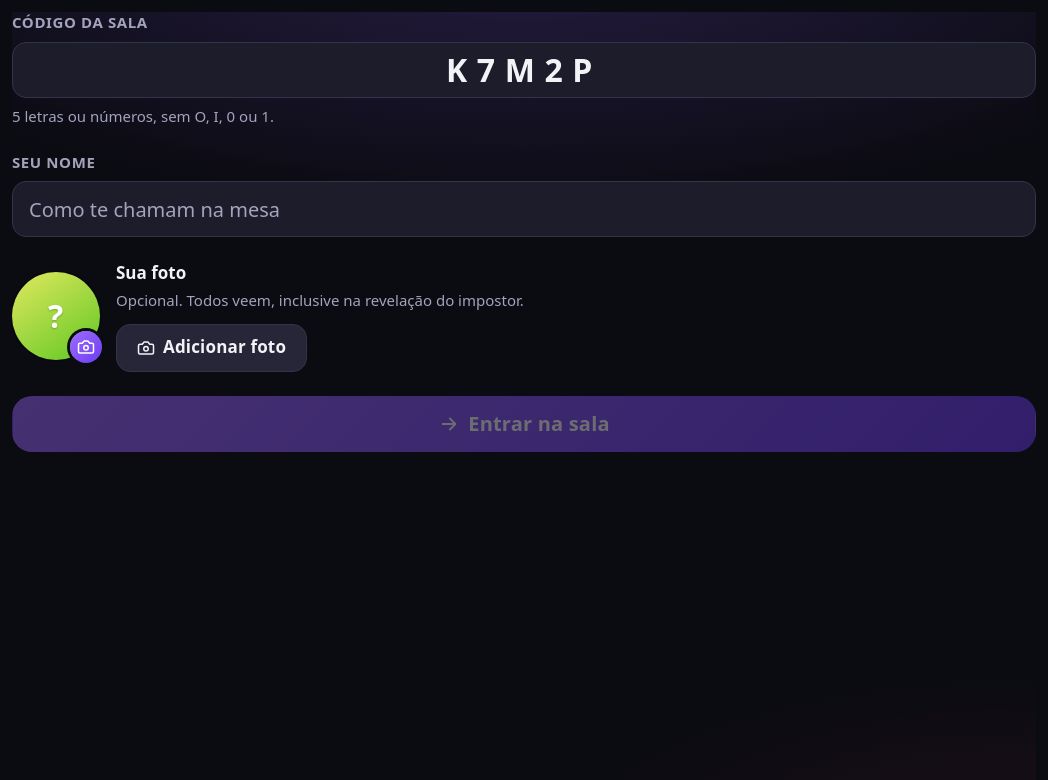
Scenario: JoinRoomForm › shows the message for room_not_found
The image size is (1048, 780).
In the field labelled "Seu nome": point(524, 209) [12, 181, 1036, 237], type "Bia"
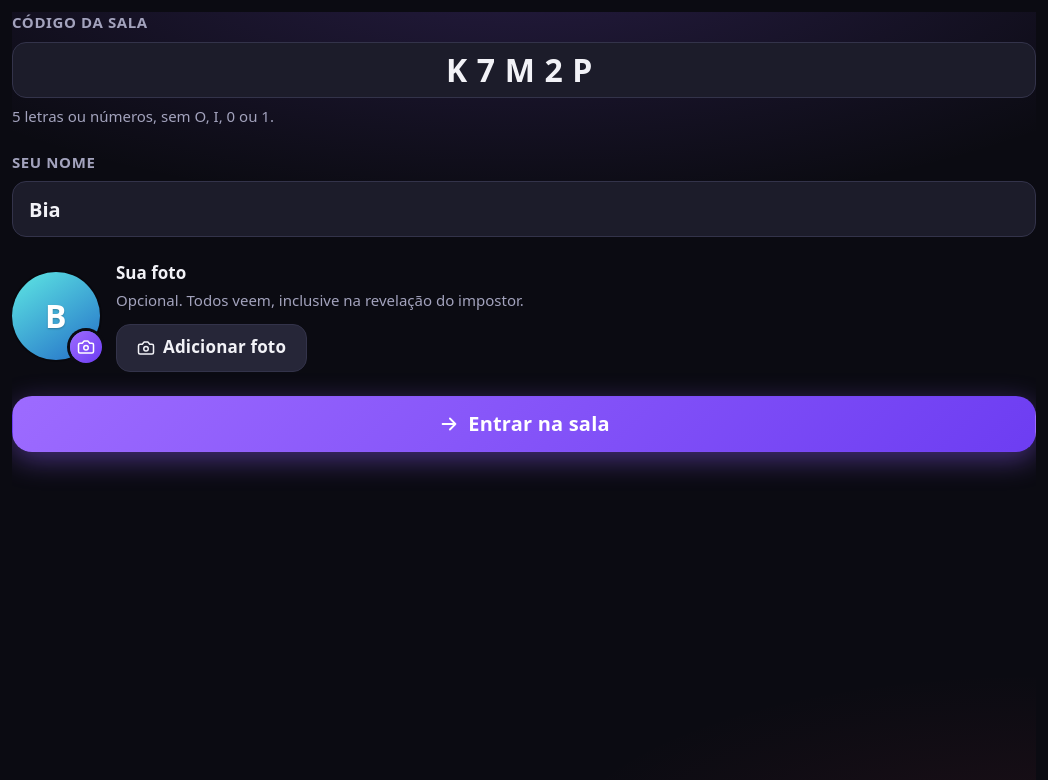
Click the button "Entrar na sala": point(524, 424) [12, 396, 1036, 452]
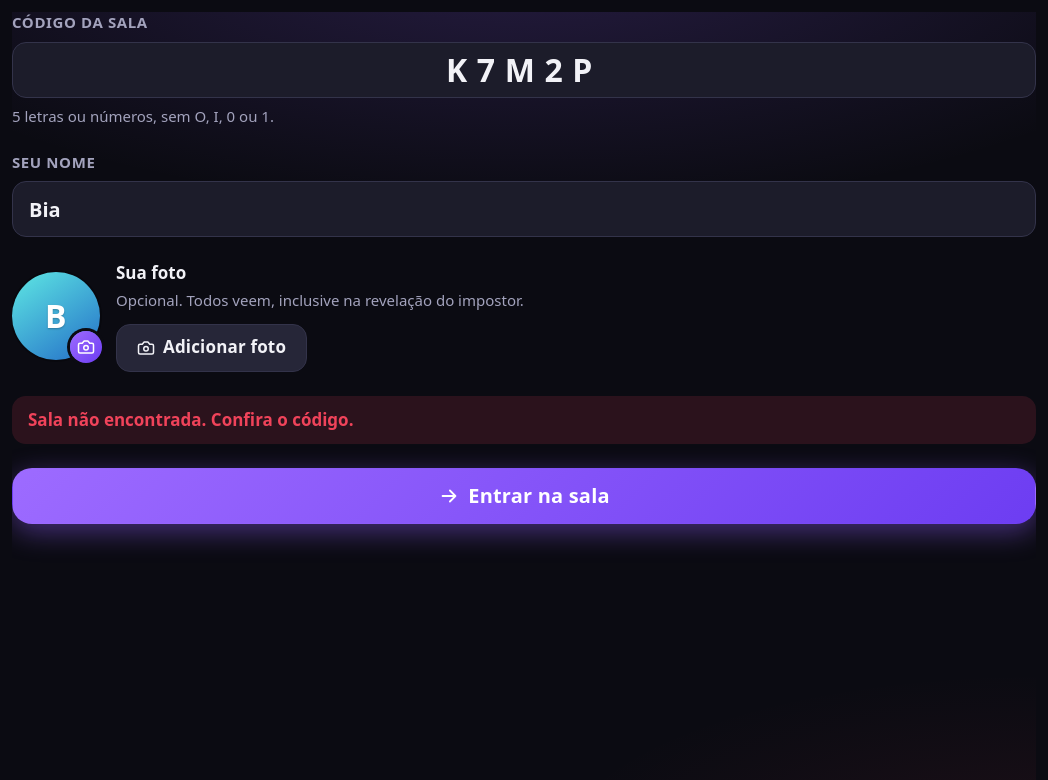
Check: the message shows "Sala não encontrada", box [28, 408, 354, 431]
